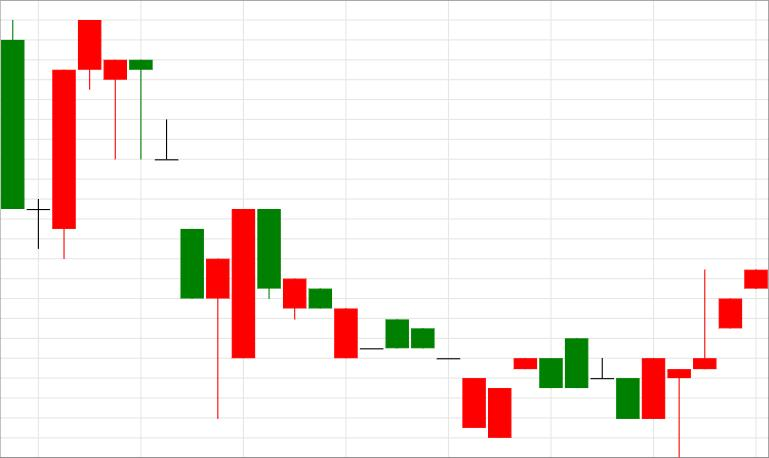bullish_engulfing_rise: (539, 338, 664, 419)
hammer_rise: (79, 21, 229, 419)
